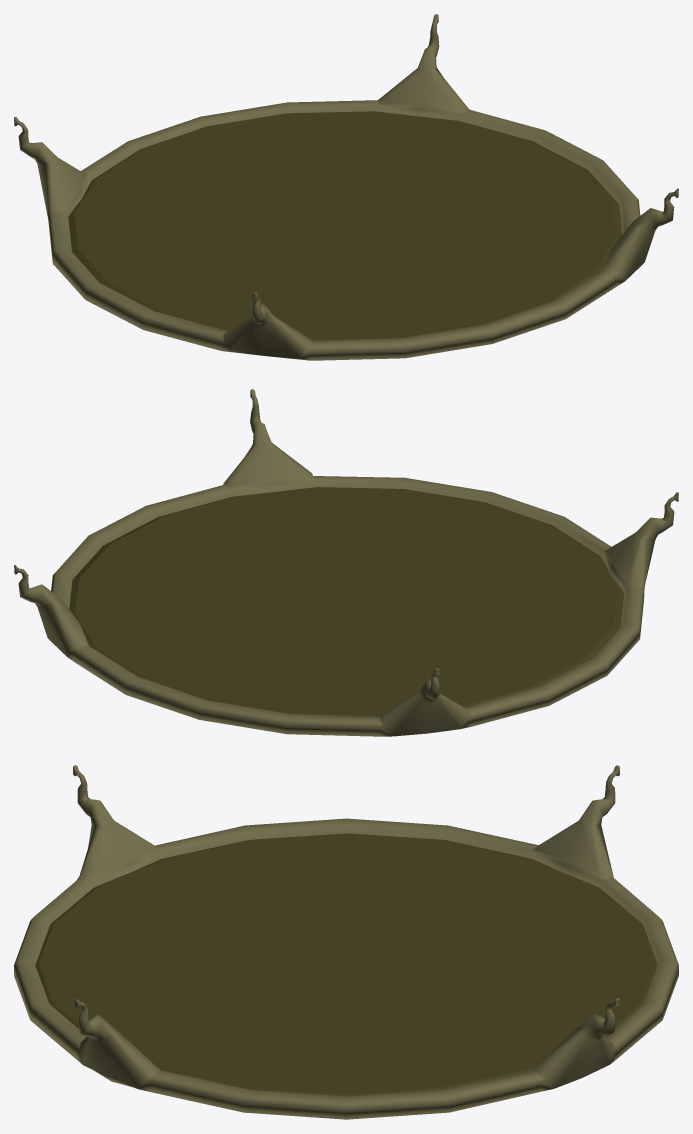
The model's file is sapling_seed_circle.fbx.
The picture shows the model from 3 angles, top to bottom: view 1: azimuth 30°, elevation 25°; view 2: azimuth 150°, elevation 25°; view 3: azimuth 270°, elevation 25°; orthographic projection. The views are drawn at different scales.
Parts seen in each view (by area): view 1: Tree_circle; view 2: Tree_circle; view 3: Tree_circle.
Part boxes in pixels (box(x1,y1,x2,y2)): Tree_circle: box(14, 14, 678, 360); Tree_circle: box(14, 389, 678, 736); Tree_circle: box(14, 765, 678, 1119).
Bounding box in the file's own units: 952 × 151 × 931.
